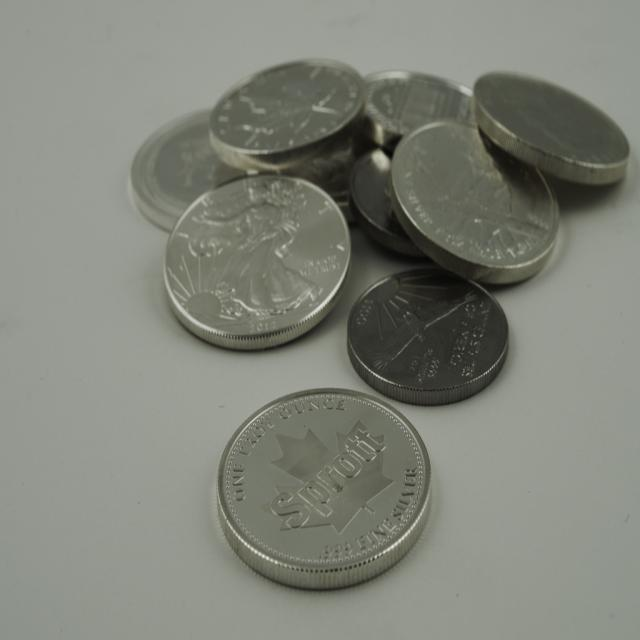Coin: (126, 56, 633, 402), (218, 387, 431, 587)
